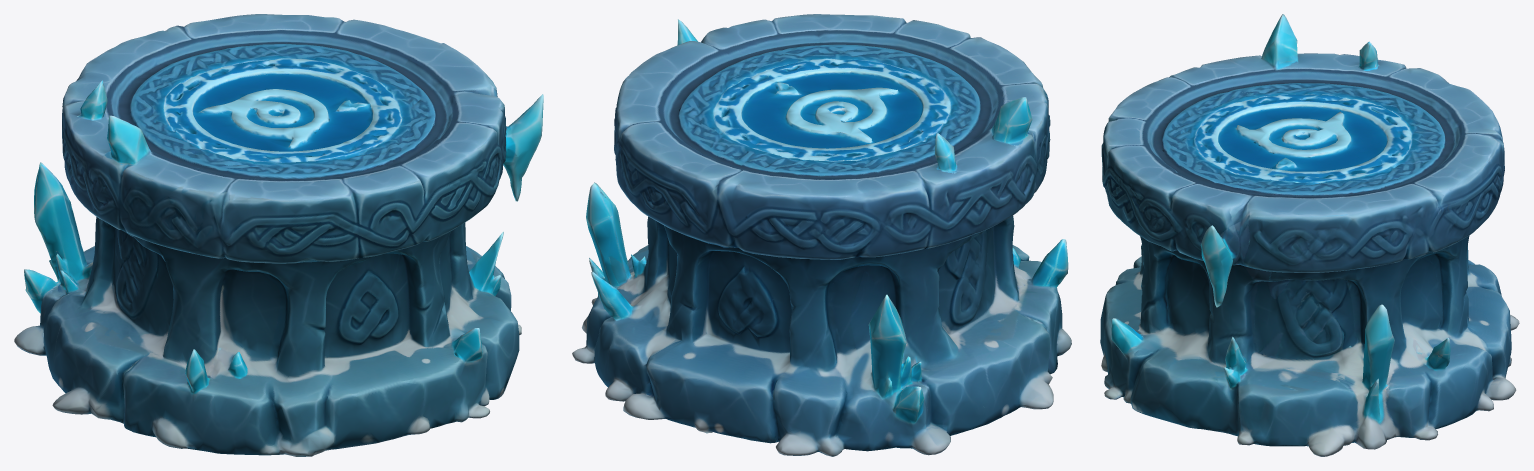
File: bigjump.glb
3 views of the same model, side by side, from view 1: azimuth 30°, elevation 25°; view 2: azimuth 150°, elevation 25°; view 3: azimuth 270°, elevation 25° (orthographic). The views are drawn at different scales.
Parts seen in each view (by area): view 1: Mesh_0; view 2: Mesh_0; view 3: Mesh_0.
Part boxes in pixels (bbox=[...]): Mesh_0: bbox=[14, 14, 543, 456]; Mesh_0: bbox=[572, 14, 1071, 456]; Mesh_0: bbox=[1100, 14, 1519, 456].
Bounding box in the file's own units: 0.3194 × 0.2 × 0.2843.
Materials: 1 (1 with a texture image).
